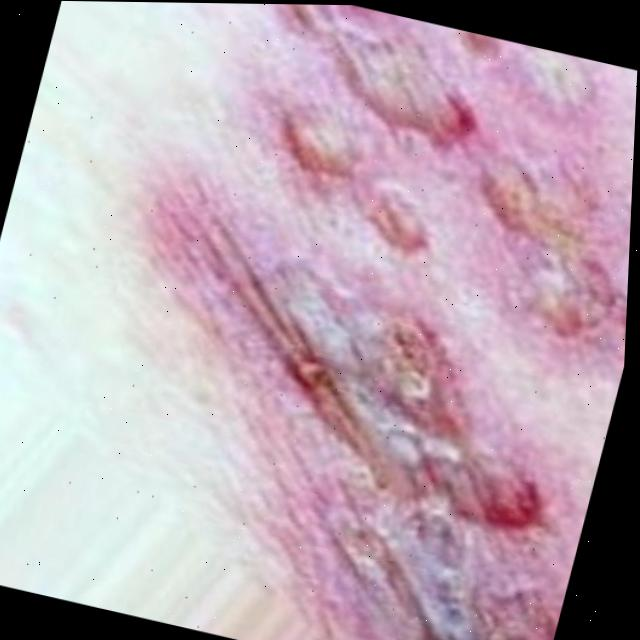Shingles: (110, 2, 640, 640)
